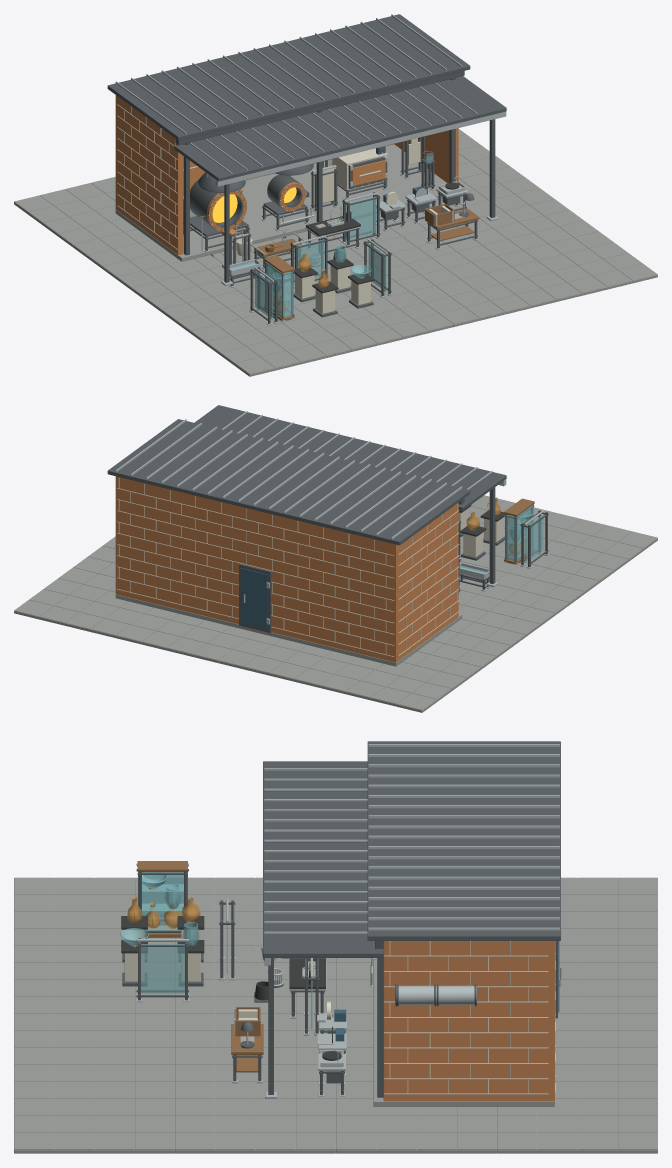
The model's file is glassblowing-studio-and-gallery-sheltere-025fd000-starter-scene__29633.glb.
3 views of the same model, one above another, from view 1: azimuth 30°, elevation 25°; view 2: azimuth 150°, elevation 25°; view 3: azimuth 270°, elevation 25° (orthographic). The views are drawn at different scales.
Parts seen in each view (by area): view 1: 016-roofed-hot-shop-building/0, 016-roofed-hot-shop-building/2, 016-roofed-hot-shop-building/1, 016-roofed-hot-shop-building/6, 011-courtyard-paving-base/0, 015-courtyard-paving-base/0, 003-courtyard-paving-base/0, 007-courtyard-paving-base/0, 014-courtyard-paving-base/0, 002-courtyard-paving-base/0, 010-courtyard-paving-base/0, 000-courtyard-paving-base/0 (+20 smaller); view 2: 016-roofed-hot-shop-building/2, 016-roofed-hot-shop-building/0, 016-roofed-hot-shop-building/4, 016-roofed-hot-shop-building/1, 000-courtyard-paving-base/0, 002-courtyard-paving-base/0, 003-courtyard-paving-base/0, 012-courtyard-paving-base/0, 004-courtyard-paving-base/0, 008-courtyard-paving-base/0, 001-courtyard-paving-base/0, 016-roofed-hot-shop-building/6 (+6 smaller); view 3: 016-roofed-hot-shop-building/0, 016-roofed-hot-shop-building/2, 016-roofed-hot-shop-building/1, 015-courtyard-paving-base/0, 014-courtyard-paving-base/0, 011-courtyard-paving-base/0, 012-courtyard-paving-base/0, 007-courtyard-paving-base/0, 013-courtyard-paving-base/0, 003-courtyard-paving-base/0, 010-courtyard-paving-base/0, 008-courtyard-paving-base/0 (+17 smaller).
Part boxes in pixels (left/top/right/bottom): 016-roofed-hot-shop-building/0: left=107, top=14, right=506, bottom=282; 016-roofed-hot-shop-building/2: left=115, top=95, right=458, bottom=254; 016-roofed-hot-shop-building/1: left=115, top=14, right=506, bottom=285; 016-roofed-hot-shop-building/6: left=115, top=144, right=446, bottom=261; 011-courtyard-paving-base/0: left=395, top=256, right=555, bottom=326; 015-courtyard-paving-base/0: left=497, top=231, right=657, bottom=301; 003-courtyard-paving-base/0: left=191, top=307, right=351, bottom=376; 007-courtyard-paving-base/0: left=293, top=281, right=453, bottom=351; 014-courtyard-paving-base/0: left=454, top=188, right=598, bottom=256; 002-courtyard-paving-base/0: left=132, top=263, right=290, bottom=333; 010-courtyard-paving-base/0: left=338, top=216, right=496, bottom=280; 000-courtyard-paving-base/0: left=14, top=177, right=136, bottom=246; 016-roofed-hot-shop-building/2: left=115, top=476, right=458, bottom=662; 016-roofed-hot-shop-building/0: left=107, top=405, right=506, bottom=632; 016-roofed-hot-shop-building/4: left=117, top=478, right=459, bottom=656; 016-roofed-hot-shop-building/1: left=115, top=411, right=506, bottom=624; 000-courtyard-paving-base/0: left=320, top=651, right=480, bottom=712; 002-courtyard-paving-base/0: left=458, top=556, right=598, bottom=626; 003-courtyard-paving-base/0: left=497, top=513, right=657, bottom=583; 012-courtyard-paving-base/0: left=14, top=567, right=153, bottom=637; 004-courtyard-paving-base/0: left=218, top=632, right=357, bottom=687; 008-courtyard-paving-base/0: left=116, top=607, right=255, bottom=662; 001-courtyard-paving-base/0: left=417, top=604, right=539, bottom=669; 016-roofed-hot-shop-building/6: left=115, top=594, right=462, bottom=666; 016-roofed-hot-shop-building/0: left=263, top=741, right=560, bottom=1097; 016-roofed-hot-shop-building/2: left=383, top=941, right=554, bottom=1101; 016-roofed-hot-shop-building/1: left=264, top=744, right=561, bottom=1098; 015-courtyard-paving-base/0: left=14, top=1081, right=174, bottom=1153; 014-courtyard-paving-base/0: left=175, top=1081, right=335, bottom=1153; 011-courtyard-paving-base/0: left=14, top=1013, right=174, bottom=1081; 012-courtyard-paving-base/0: left=497, top=1081, right=657, bottom=1153; 007-courtyard-paving-base/0: left=14, top=945, right=174, bottom=1013; 013-courtyard-paving-base/0: left=336, top=1081, right=496, bottom=1153; 003-courtyard-paving-base/0: left=14, top=877, right=174, bottom=945; 010-courtyard-paving-base/0: left=175, top=1013, right=327, bottom=1081; 008-courtyard-paving-base/0: left=555, top=1013, right=657, bottom=1081.
Bounding box in the file's own units: 16 × 4.98 × 16.
